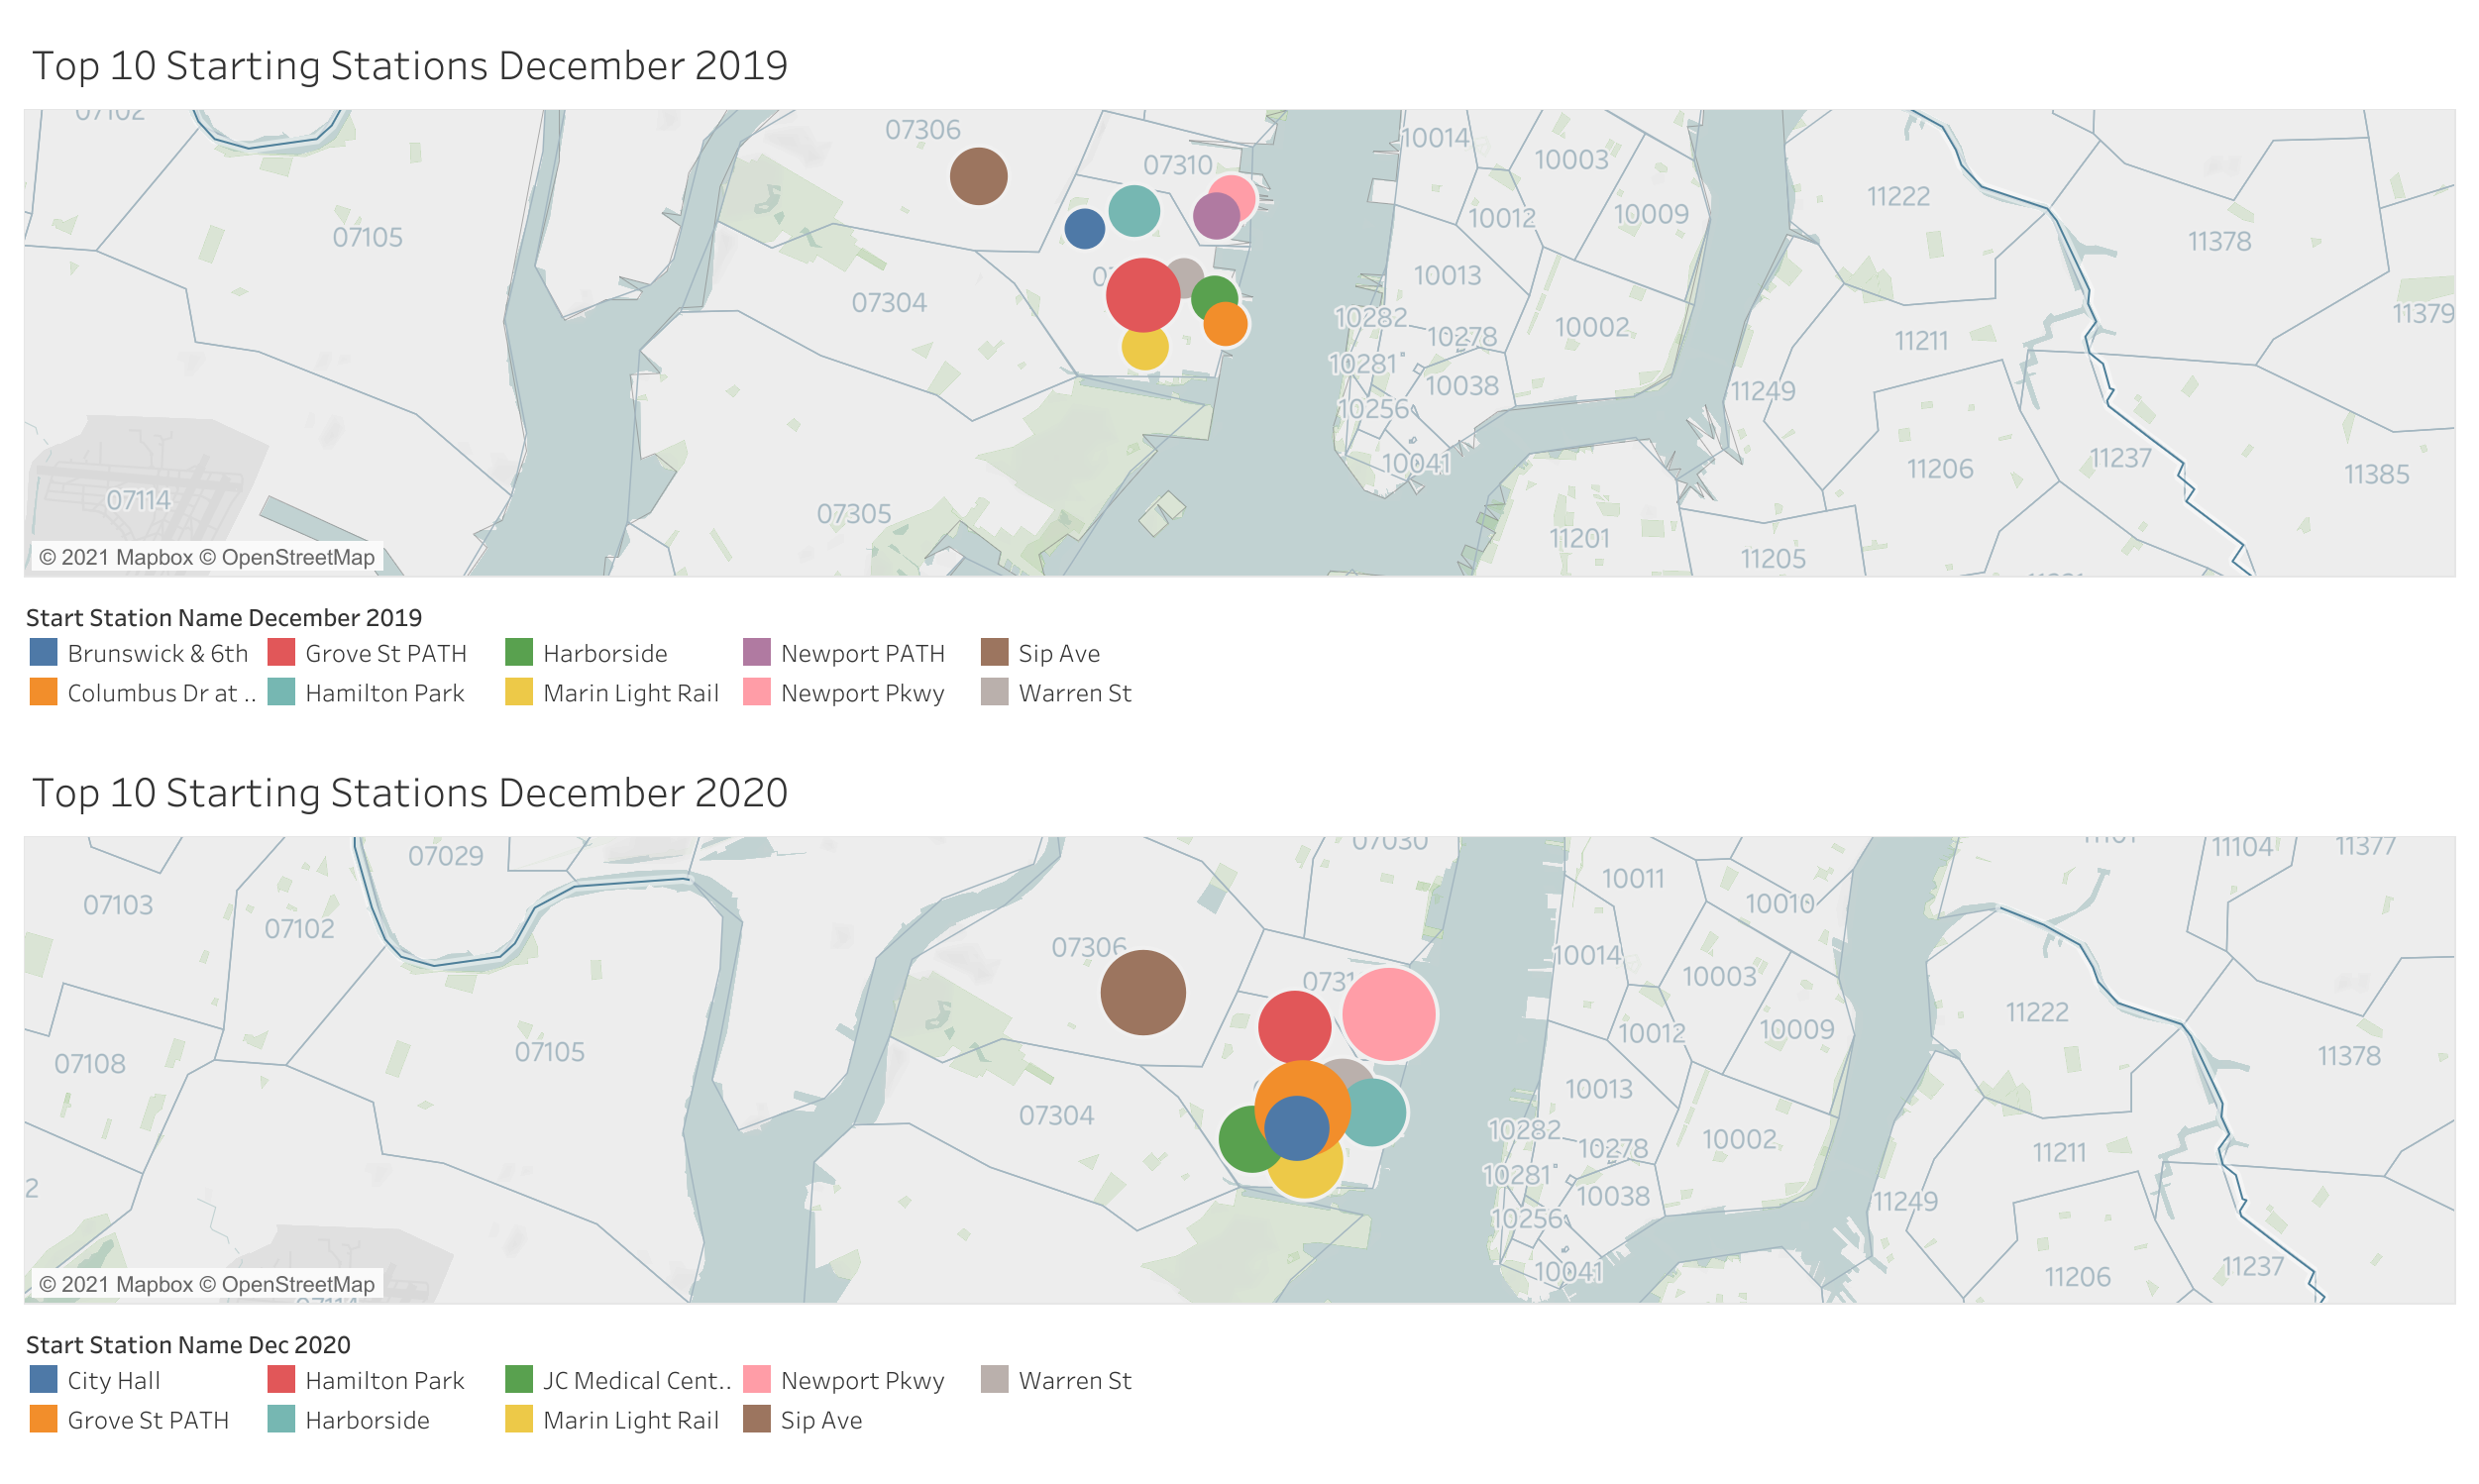

What the dashboard file says about the page in this screenshot:
{"tool":"tableau","page":{"name":"Dashboard 3","canvas":[650,860],"ordinal":2},"visuals":[{"type":"worksheet","box":[0,0,650,860]},{"type":"worksheet","param":"horz","box":[8,12.3,634,835.4]},{"type":"worksheet","box":[8,12.3,474,835.4]},{"type":"worksheet","title":"Top 10 Start - 2019","mark":"Automatic","rows":["start station latitude"],"cols":["start station longitude"],"box":[8,12.3,474,417.7]},{"type":"worksheet","box":[482,12.3,160,835.4]},{"type":"worksheet","param":"vert","box":[482,12.3,160,417.7]},{"type":"worksheet","title":"Top 10 Start - 2019","mark":"Automatic","rows":["start station latitude"],"cols":["start station longitude"],"param":"[federated.07iu7ii0emu7lh1b0mao20i7xpn5].[none:start station name:nk]","box":[482,12.3,160,368.6]},{"type":"worksheet","title":"Top 10 Start-2020","mark":"Automatic","rows":["start station latitude (JC-202012-citibike-tripdata.csv)"],"cols":["start station longitude (JC-202012-citibike-tripdata.csv)"],"box":[8,430,474,417.7]},{"type":"worksheet","param":"vert","box":[482,430,160,417.7]},{"type":"worksheet","title":"Top 10 Start-2020","mark":"Automatic","rows":["start station latitude (JC-202012-citibike-tripdata.csv)"],"cols":["start station longitude (JC-202012-citibike-tripdata.csv)"],"param":"[federated.07iu7ii0emu7lh1b0mao20i7xpn5].[none:start station name (JC-202012-cit","box":[482,430,160,417.7]}]}

Visuals, with their boxes on the page's 650x860 design canvas (x1, y1, x2, y2). These are canvas units, not pixel positions in the 2479x1484 screenshot, which may show the page scaled, cropped or inside an application window:
worksheet: {"left": 0, "top": 0, "right": 650, "bottom": 860}
worksheet: {"left": 8, "top": 12, "right": 642, "bottom": 848}
worksheet: {"left": 8, "top": 12, "right": 482, "bottom": 848}
"Top 10 Start - 2019" worksheet: {"left": 8, "top": 12, "right": 482, "bottom": 430}
worksheet: {"left": 482, "top": 12, "right": 642, "bottom": 848}
worksheet: {"left": 482, "top": 12, "right": 642, "bottom": 430}
"Top 10 Start - 2019" worksheet: {"left": 482, "top": 12, "right": 642, "bottom": 381}
"Top 10 Start-2020" worksheet: {"left": 8, "top": 430, "right": 482, "bottom": 848}
worksheet: {"left": 482, "top": 430, "right": 642, "bottom": 848}
"Top 10 Start-2020" worksheet: {"left": 482, "top": 430, "right": 642, "bottom": 848}
